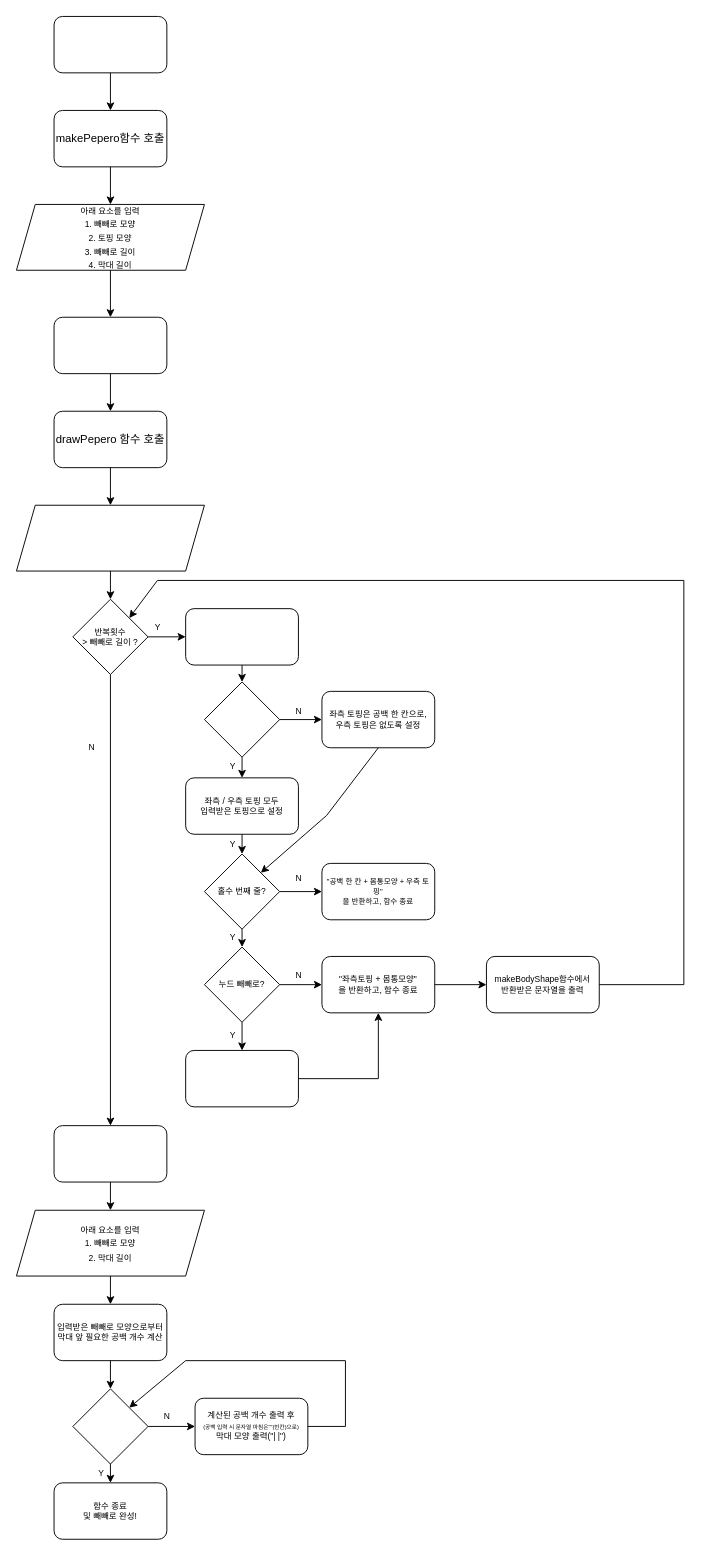
Some shapes in this 708 by 1556 pixel diagram are drawn without their labels. The shapes that lost their labels are listed below. From the top down, each one's centre as x and y in pixels, then its label:
pixel 110 44: 빼빼로 만들기 시작
pixel 110 345: 입력받은 정보 출력
pixel 110 537: 아래 요소를 입력 1. 빼빼로 길이 2. 빼빼로 모양 3. 토핑 모양
pixel 241 636: makeBodyShape함수 호출
pixel 242 719: 토핑이 있는 빼빼로?
pixel 241 1078: 몸통모양에서 "0"을 공백으로 치환
pixel 110 1153: drawStick함수호출
pixel 110 1426: 반복 횟수 > 막대 길이?
